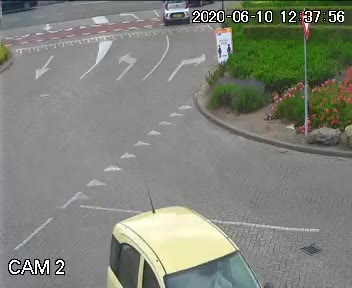car: (100, 198, 276, 288), (158, 0, 194, 30)
